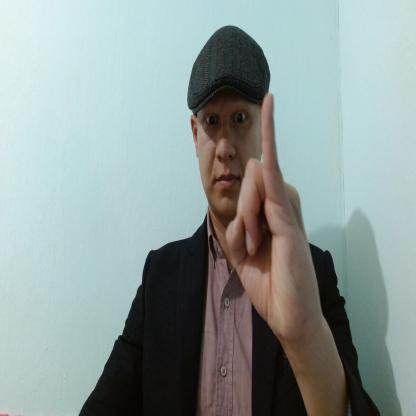I: (225, 92, 320, 342)
